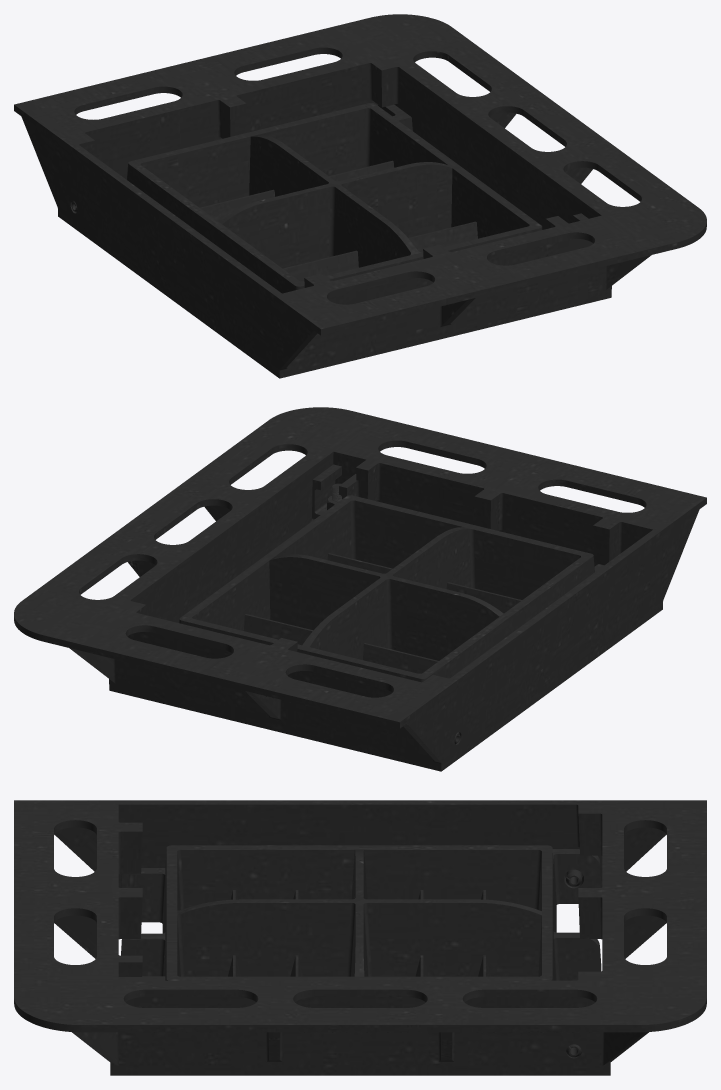
File: 360-x-310-c250-hinge-grate-and-frame.glb
The picture shows the model from 3 angles, top to bottom: view 1: azimuth 30°, elevation 25°; view 2: azimuth 150°, elevation 25°; view 3: azimuth 270°, elevation 25°; orthographic projection. The views are drawn at different scales.
Visible parts, largest first — view 1: NAUO5_high; view 2: NAUO5_high; view 3: NAUO5_high.
Boxes of the visible parts, x1=… form: NAUO5_high: x1=14, y1=14, x2=706, y2=378; NAUO5_high: x1=14, y1=407, x2=706, y2=771; NAUO5_high: x1=14, y1=800, x2=706, y2=1075.
Size of the model in its own units: 0.3952 by 0.0775 by 0.5152.
1 material, 1 textured.
